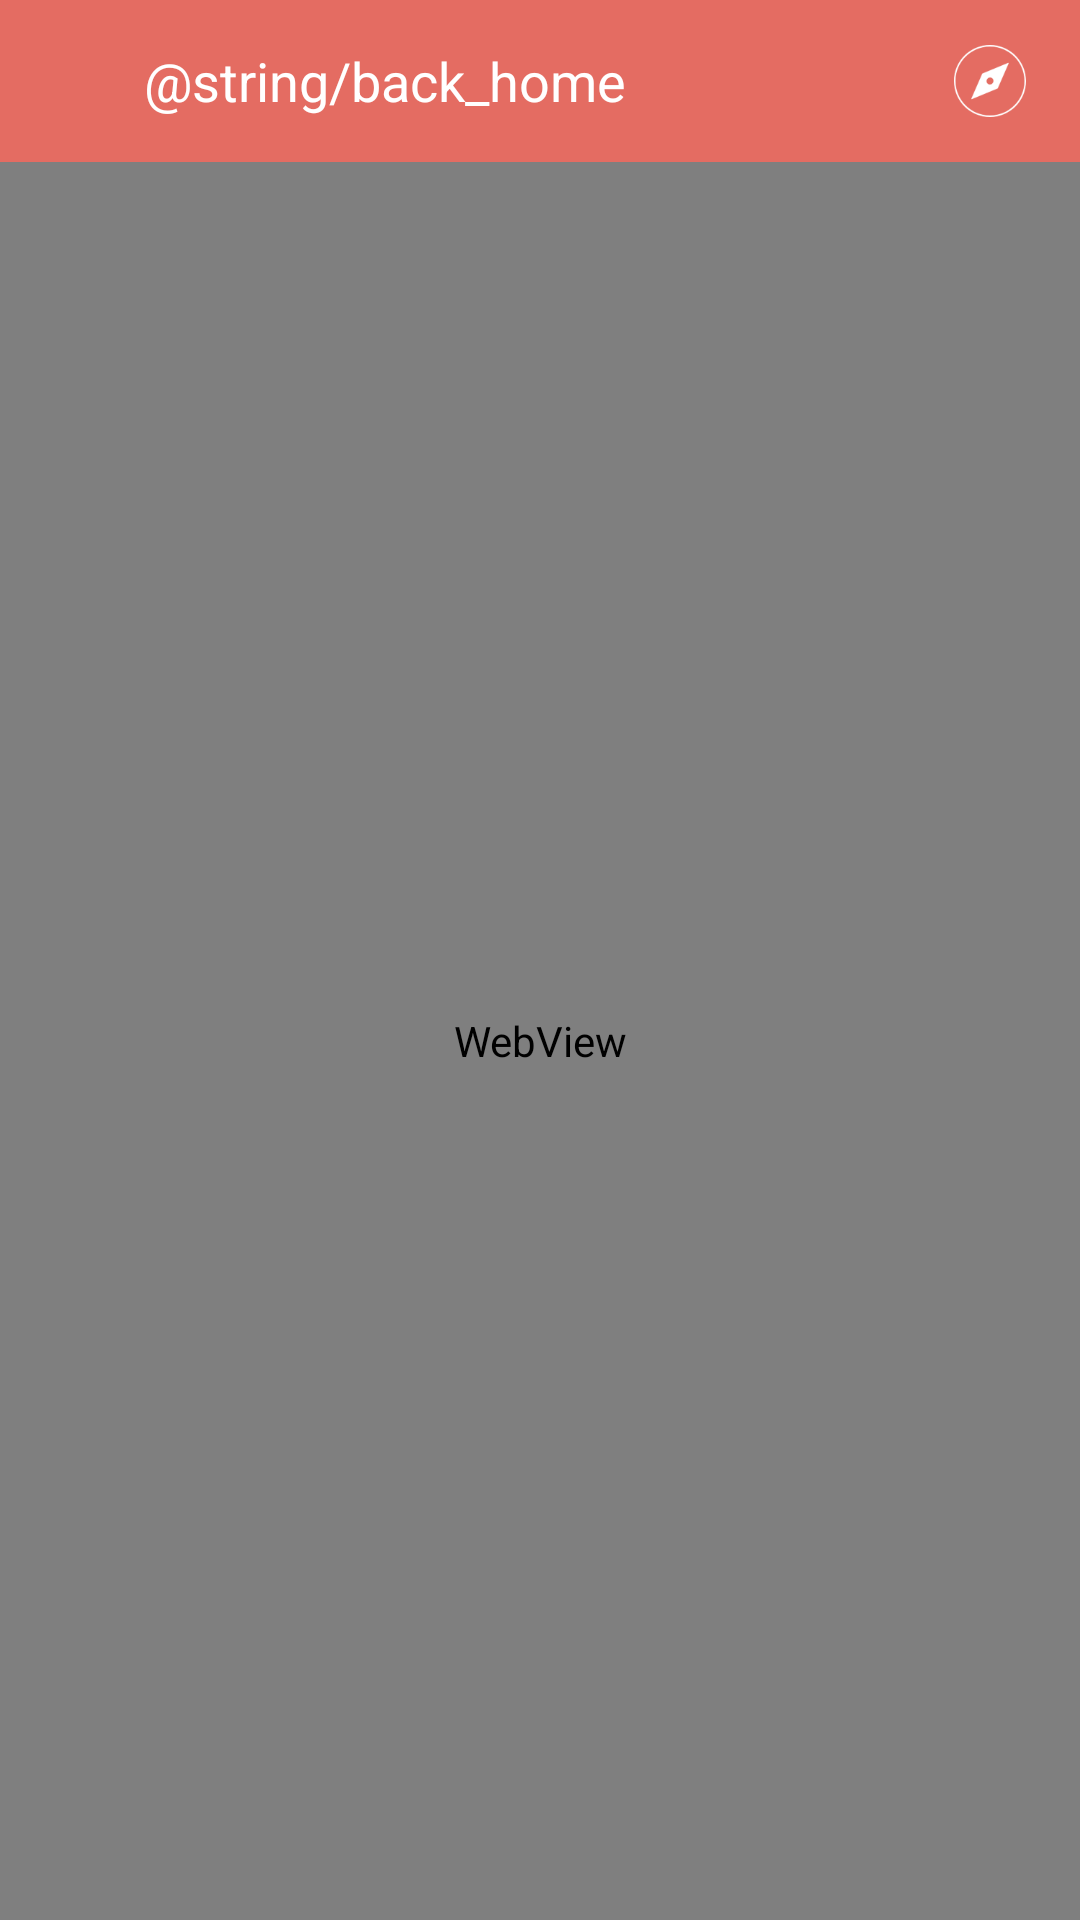

Named icons in this screenshot (1080w x 1920h) and their bounding boxes, (x1, y1, x2, y2):
systm browser: (954, 45, 1026, 117)
